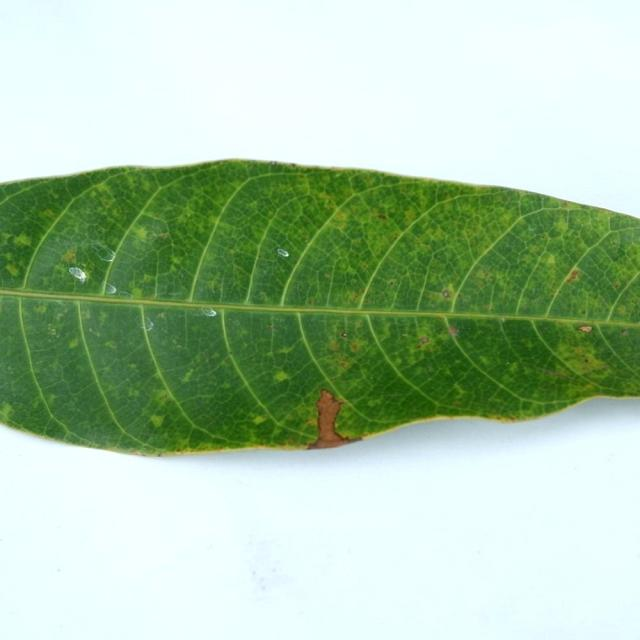Mango: (0, 161, 639, 454)
Powdery_Mildew: (271, 364, 297, 384), (551, 214, 570, 237), (11, 232, 33, 248), (439, 283, 457, 301), (151, 389, 171, 404), (1, 401, 15, 418), (149, 414, 165, 428), (133, 226, 149, 240), (181, 368, 196, 382), (343, 265, 358, 279), (452, 382, 468, 395), (52, 264, 66, 278), (5, 263, 20, 276), (544, 252, 557, 267), (333, 209, 348, 221), (234, 264, 247, 277), (252, 414, 267, 425), (42, 209, 57, 220), (276, 346, 294, 355), (507, 361, 519, 374), (256, 291, 269, 303), (319, 191, 334, 201), (141, 273, 154, 284), (1, 232, 14, 243), (34, 303, 47, 314), (130, 287, 142, 298), (104, 340, 117, 350), (170, 256, 183, 266), (68, 337, 78, 349), (127, 387, 139, 397), (47, 393, 57, 403), (330, 341, 340, 351), (616, 306, 627, 315), (340, 360, 350, 369), (221, 382, 232, 390), (351, 343, 359, 352), (229, 248, 237, 255)
